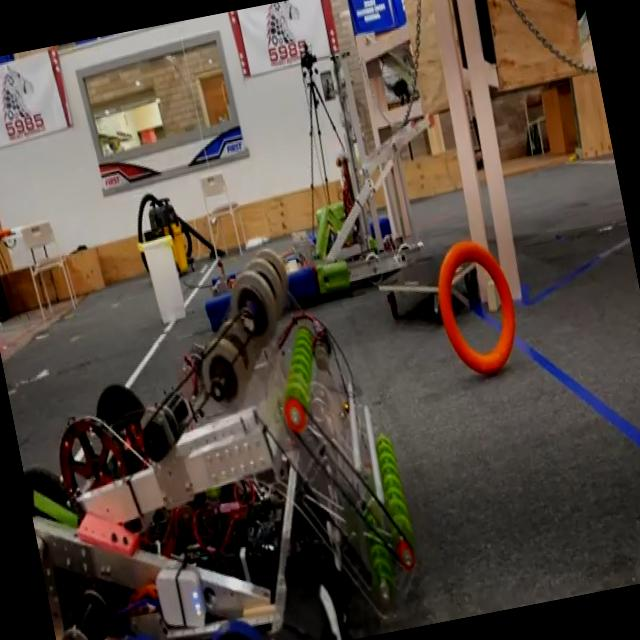note: (428, 232, 528, 380)
